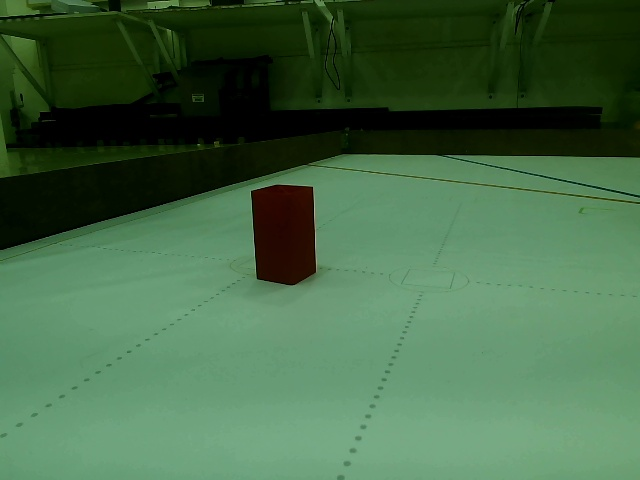red: (255, 184, 316, 275)
